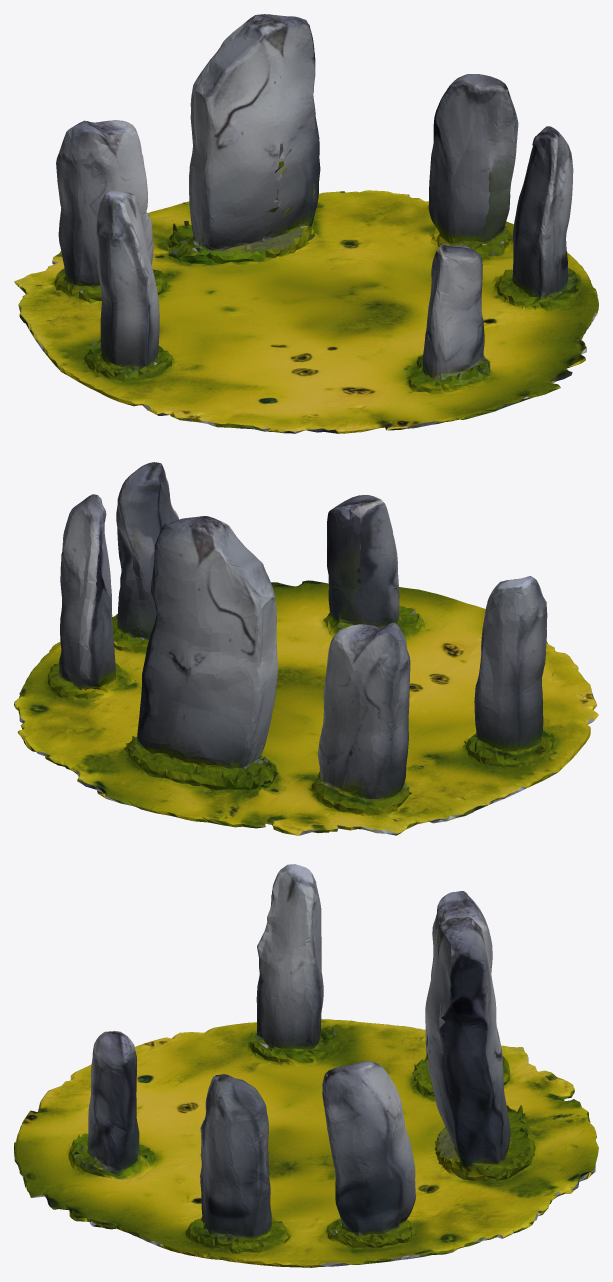
Rendered from stones_painted.glb.
The picture shows the model from 3 angles, top to bottom: view 1: azimuth 30°, elevation 25°; view 2: azimuth 150°, elevation 25°; view 3: azimuth 270°, elevation 25°; orthographic projection.
Visible parts, largest first — view 1: geometry_0; view 2: geometry_0; view 3: geometry_0.
Boxes of the visible parts, x1,y1,x2,y2 form: geometry_0: (14,14,598,433); geometry_0: (14,462,598,835); geometry_0: (14,864,598,1267).
Size of the model in its own units: 1.99 by 0.8988 by 1.99.
Materials: 1 (1 with a texture image).
